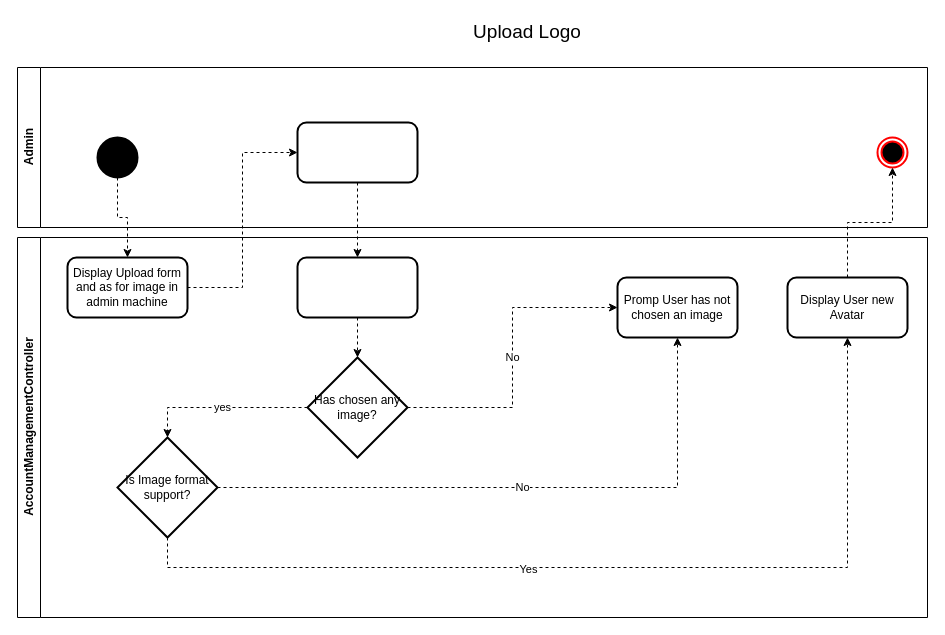
This 945x635 diagram has some shape labels left out. The centre of each missing label's shape, as x and y in pixels:
Check image: the point at 357,287
Choose Image: the point at 357,152
choose upload logo: the point at 117,157
